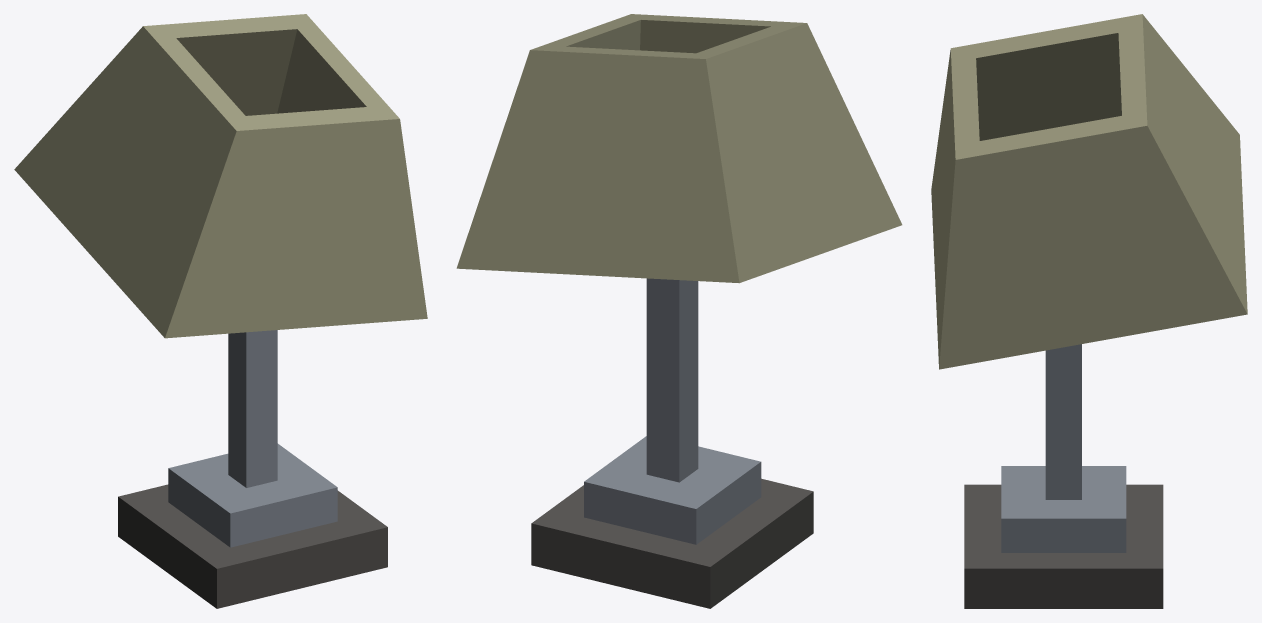
File: AI_Prop_Lamp.fbx
3 views of the same model, side by side, from view 1: azimuth 30°, elevation 25°; view 2: azimuth 150°, elevation 25°; view 3: azimuth 270°, elevation 25° (orthographic). The views are drawn at different scales.
Visible parts, largest first — view 1: AI_Prop_Lamp; view 2: AI_Prop_Lamp; view 3: AI_Prop_Lamp.
Part boxes in pixels (x1,y1,x2,y2): AI_Prop_Lamp: (14,14,427,608); AI_Prop_Lamp: (456,14,902,608); AI_Prop_Lamp: (931,14,1247,608).
Bounding box in the file's own units: 0.5175 × 0.9447 × 0.523.
